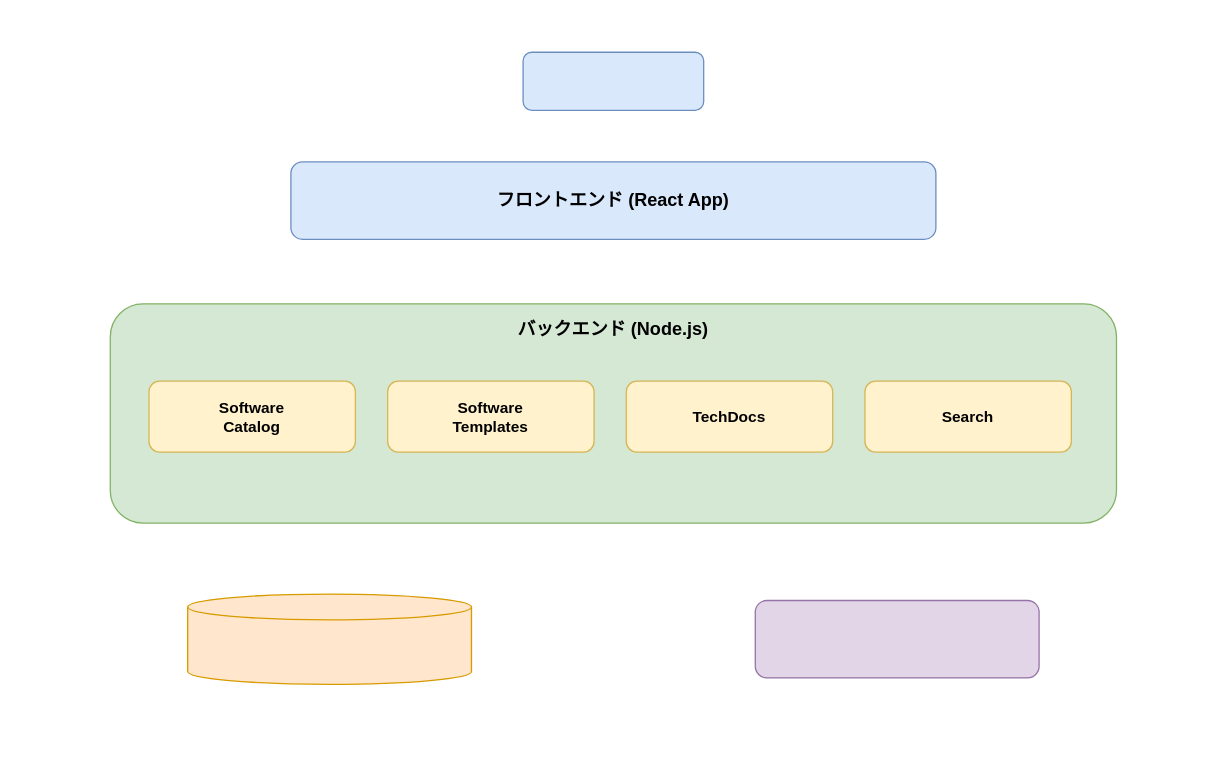
Some shapes in this 1215 by 764 pixel diagram are drawn without their labels. Each missing label, with the box of its shape:
データベース (PostgreSQL): (186, 593, 471, 684)
外部サービス (GitHub, CI/CD 等): (754, 599, 1039, 678)
開発者: (522, 51, 704, 110)
